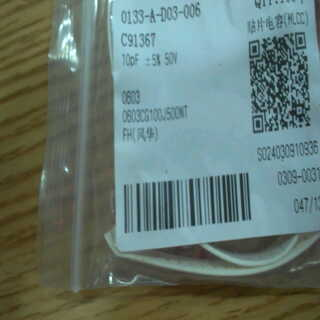10pF: (118, 49, 141, 69)
